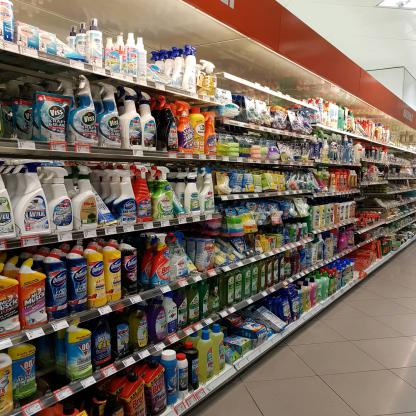Void: (5, 76, 25, 141), (37, 338, 62, 386)
